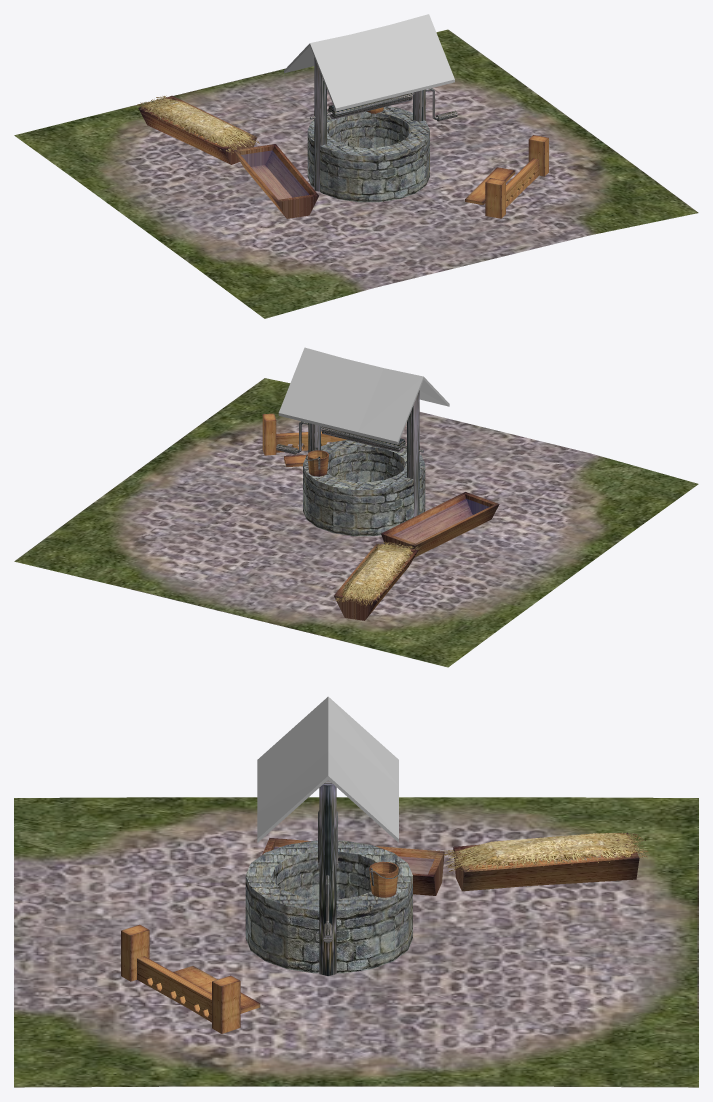
Rendered from WellStocks.obj.
3 views of the same model, one above another, from view 1: azimuth 30°, elevation 25°; view 2: azimuth 150°, elevation 25°; view 3: azimuth 270°, elevation 25° (orthographic). The views are drawn at different scales.
Parts seen in each view (by area): view 1: mudgrass, rock, roof, floor, fadewood, straw, water; view 2: mudgrass, roof, rock, floor, fadewood, straw, water; view 3: mudgrass, rock, floor, roof, straw, fadewood.
Boxes of the visible parts, left/top/right/bottom form: mudgrass: left=14, top=29, right=698, bottom=318; rock: left=307, top=106, right=429, bottom=202; roof: left=284, top=14, right=454, bottom=111; floor: left=138, top=95, right=548, bottom=218; fadewood: left=310, top=57, right=457, bottom=191; straw: left=135, top=95, right=259, bottom=154; water: left=241, top=151, right=308, bottom=198; mudgrass: left=14, top=378, right=698, bottom=667; roof: left=278, top=347, right=449, bottom=444; rock: left=303, top=440, right=425, bottom=536; floor: left=262, top=413, right=499, bottom=620; fadewood: left=276, top=390, right=423, bottom=516; straw: left=333, top=541, right=420, bottom=606; water: left=394, top=499, right=488, bottom=542; mudgrass: left=14, top=797, right=698, bottom=1087; rock: left=245, top=840, right=412, bottom=973; floor: left=121, top=832, right=639, bottom=1033; roof: left=257, top=696, right=398, bottom=842; straw: left=438, top=832, right=649, bottom=871; fadewood: left=318, top=780, right=401, bottom=975.
Bounding box in the file's own units: 76 × 25.52 × 76.
